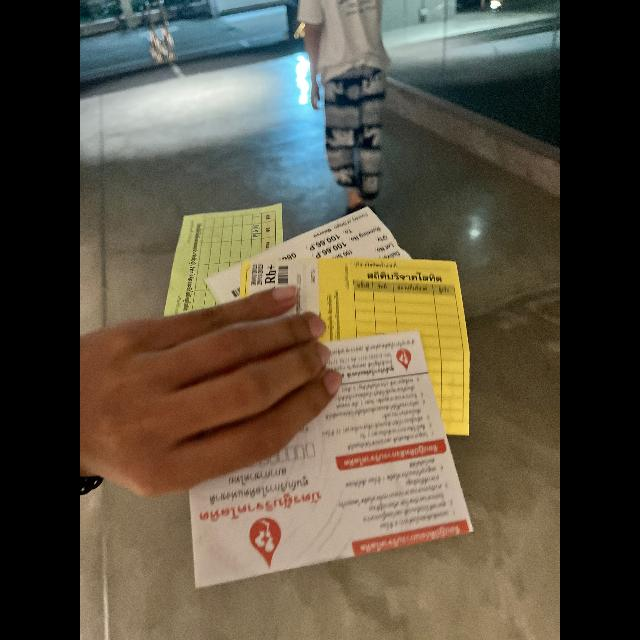scrap_paper: (180, 332, 480, 618), (312, 249, 484, 447), (207, 202, 419, 340), (163, 202, 289, 324)
